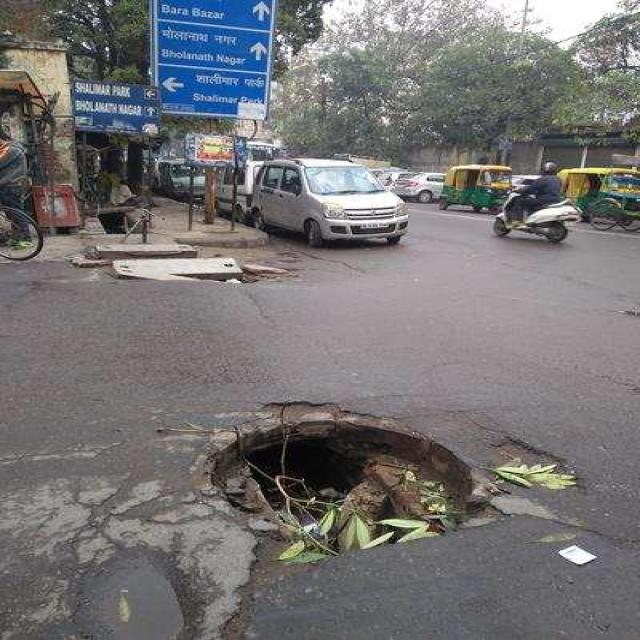Car: (253, 157, 408, 247)
Motorcycle: (494, 190, 581, 243)
